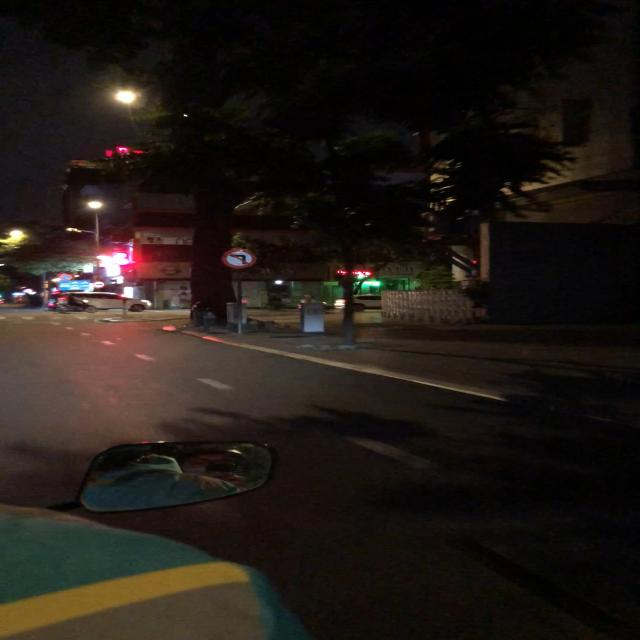Bien bao cam re trai: (221, 247, 262, 270)
Bien bao cam xe so-mi ro-mooc: (91, 279, 109, 290)
